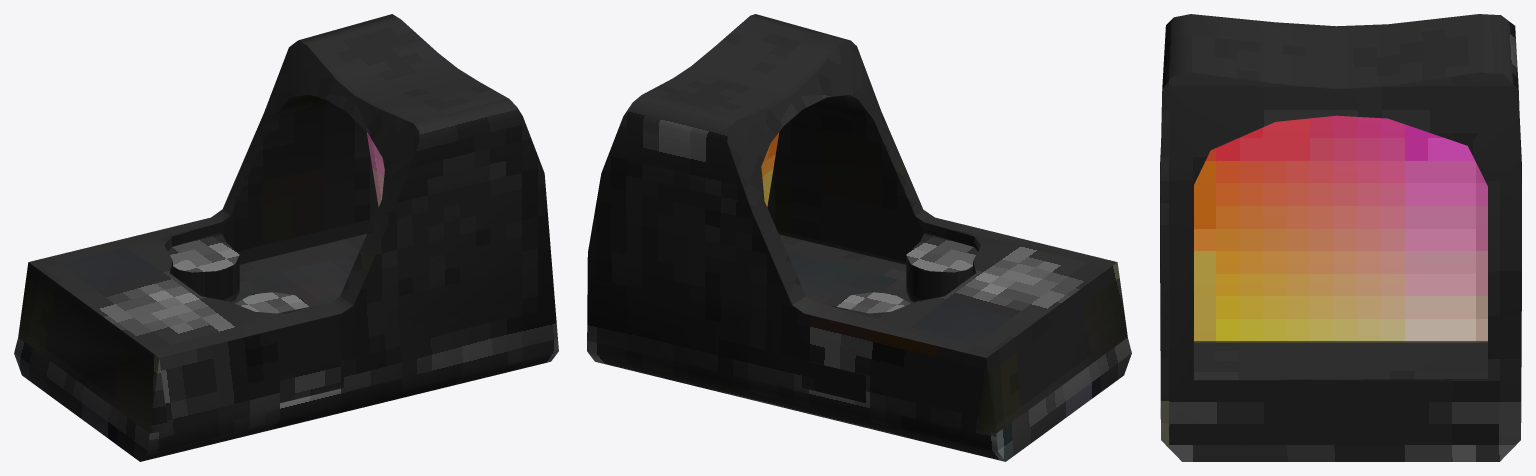
The model's file is ST_MZJ_RMR.FBX.
3 renders of one model, left to right at view 1: azimuth 30°, elevation 25°; view 2: azimuth 150°, elevation 25°; view 3: azimuth 270°, elevation 25°, orthographic. The views are drawn at different scales.
Visible parts, largest first — view 1: ST_MZJ_RMR; view 2: ST_MZJ_RMR; view 3: ST_MZJ_RMR.
Boxes of the visible parts, left/top/right/bottom form: ST_MZJ_RMR: left=14, top=14, right=558, bottom=461; ST_MZJ_RMR: left=587, top=14, right=1131, bottom=461; ST_MZJ_RMR: left=1160, top=14, right=1521, bottom=461.
Bounding box in the file's own units: 4.36 × 2.99 × 2.48.
1 material, 1 textured.
